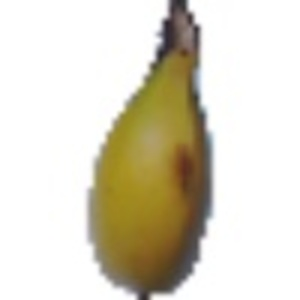banana: (85, 3, 227, 295)
